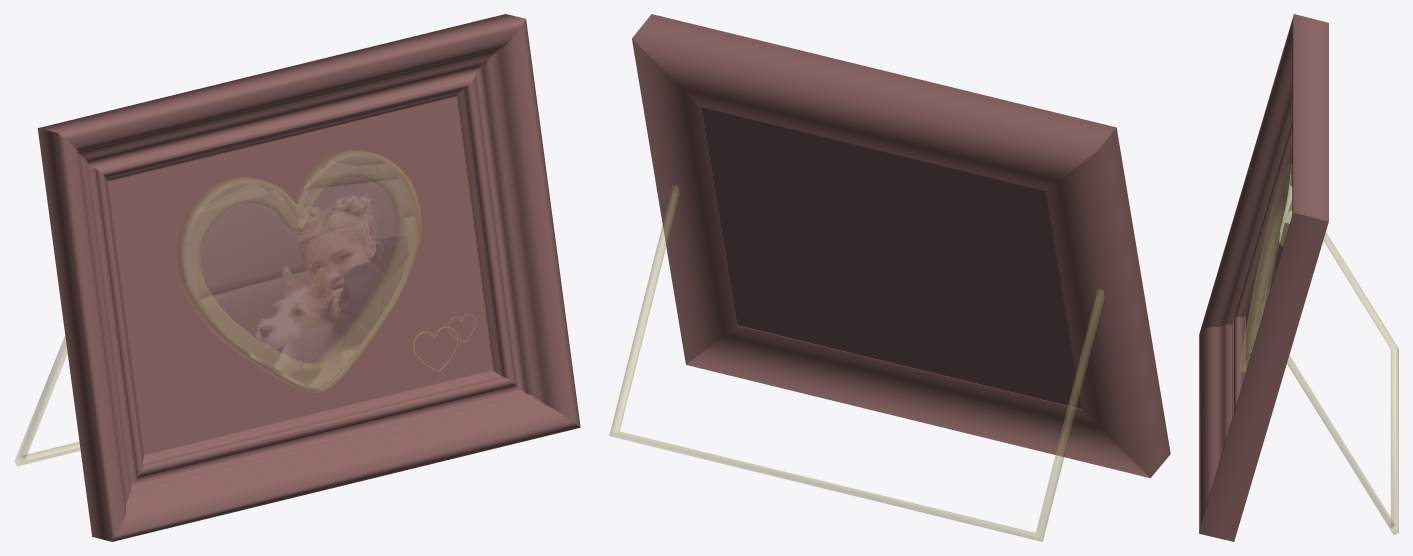
File: photo_frame.glb
The picture shows the model from 3 angles, left to right: view 1: azimuth 30°, elevation 25°; view 2: azimuth 150°, elevation 25°; view 3: azimuth 270°, elevation 25°; orthographic projection. The views are drawn at different scales.
Visible parts, largest first — view 1: photo_frame_05; view 2: photo_frame_05; view 3: photo_frame_05.
Boxes of the visible parts, <box> form: photo_frame_05: <box>14,14,580,541</box>; photo_frame_05: <box>609,14,1170,541</box>; photo_frame_05: <box>1199,14,1398,541</box>.
Size of the model in its own units: 2.24 by 1.74 by 0.9534.
